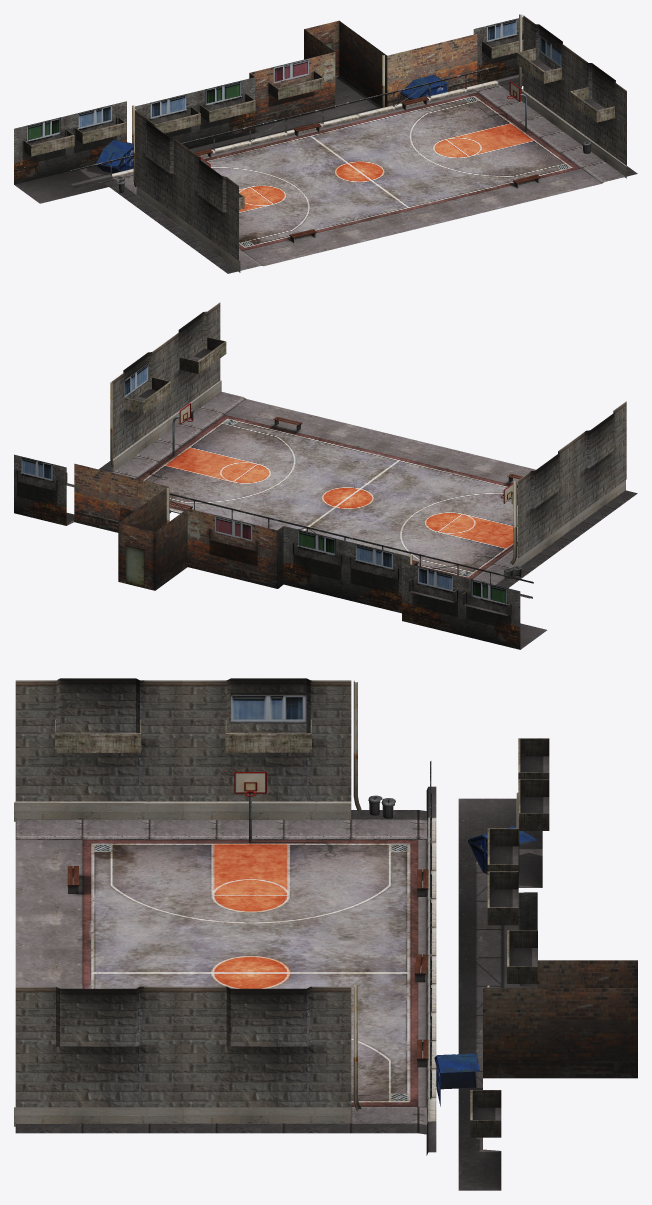
Rendered from court_chicago_mesh.fbx.
The picture shows the model from 3 angles, top to bottom: view 1: azimuth 30°, elevation 25°; view 2: azimuth 150°, elevation 25°; view 3: azimuth 270°, elevation 25°; orthographic projection. The views are drawn at different scales.
Parts seen in each view (by area): view 1: court_chicago_mesh; view 2: court_chicago_mesh; view 3: court_chicago_mesh.
Boxes of the visible parts, x1,y1,x2,y2 form: court_chicago_mesh: (14,14,637,273); court_chicago_mesh: (14,302,637,649); court_chicago_mesh: (14,678,637,1190).
Bounding box in the file's own units: 138 × 27.44 × 92.95.
